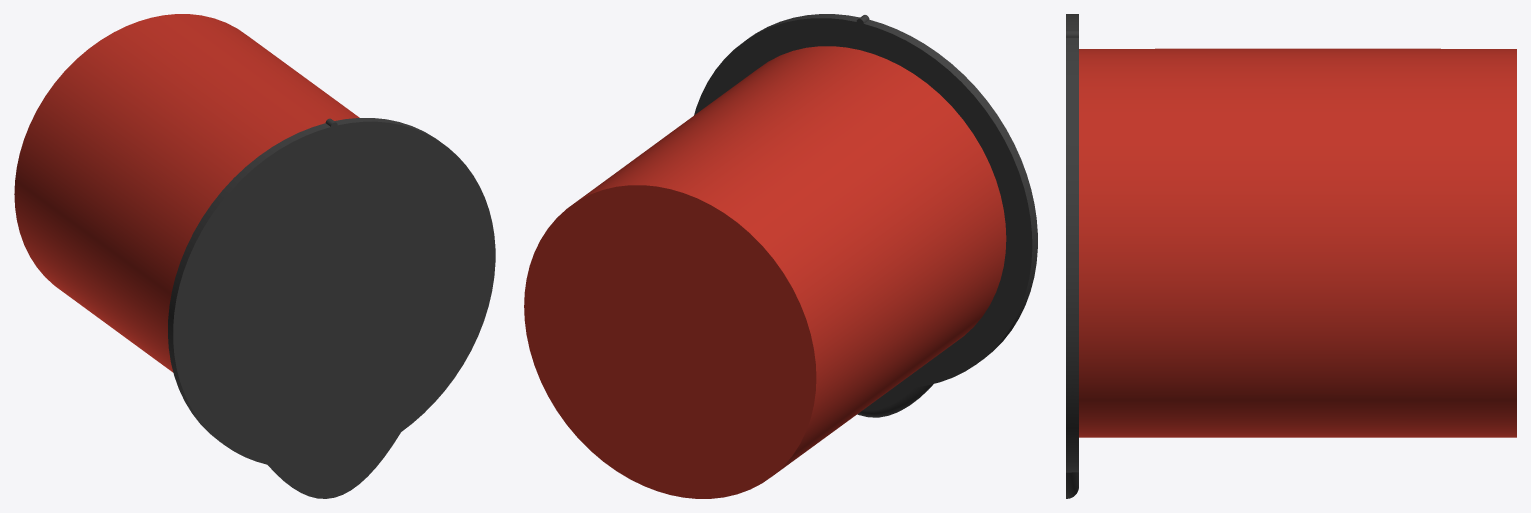
The model's file is Emergency_Bucket v3.fbx.
The picture shows the model from 3 angles, left to right: view 1: azimuth 30°, elevation 25°; view 2: azimuth 150°, elevation 25°; view 3: azimuth 270°, elevation 25°; orthographic projection. The views are drawn at different scales.
Parts seen in each view (by area): view 1: Body1 (×2); view 2: Body1 (×2); view 3: Body1 (×2).
Part boxes in pixels (bbox=[...]): Body1 (×2): bbox=[14, 14, 495, 498]; Body1 (×2): bbox=[524, 14, 1037, 498]; Body1 (×2): bbox=[1066, 14, 1516, 498].
Size of the model in its own units: 14.14 by 15.72 by 13.9.
